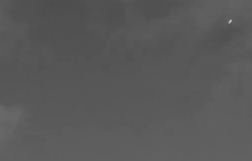Target: (228, 21, 231, 24)
